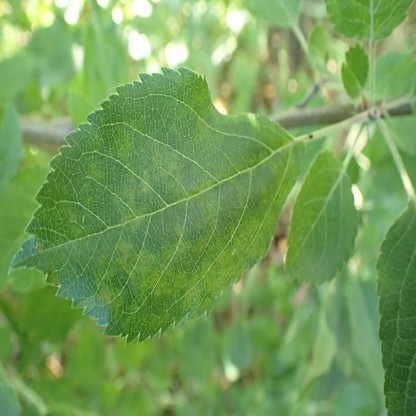scab: (117, 153, 299, 309), (115, 186, 144, 230), (153, 149, 180, 189), (97, 286, 122, 315), (93, 260, 113, 284), (116, 131, 133, 158), (124, 303, 139, 326), (86, 165, 104, 183), (195, 122, 211, 141), (66, 213, 78, 236), (140, 170, 152, 190), (36, 244, 43, 252)
